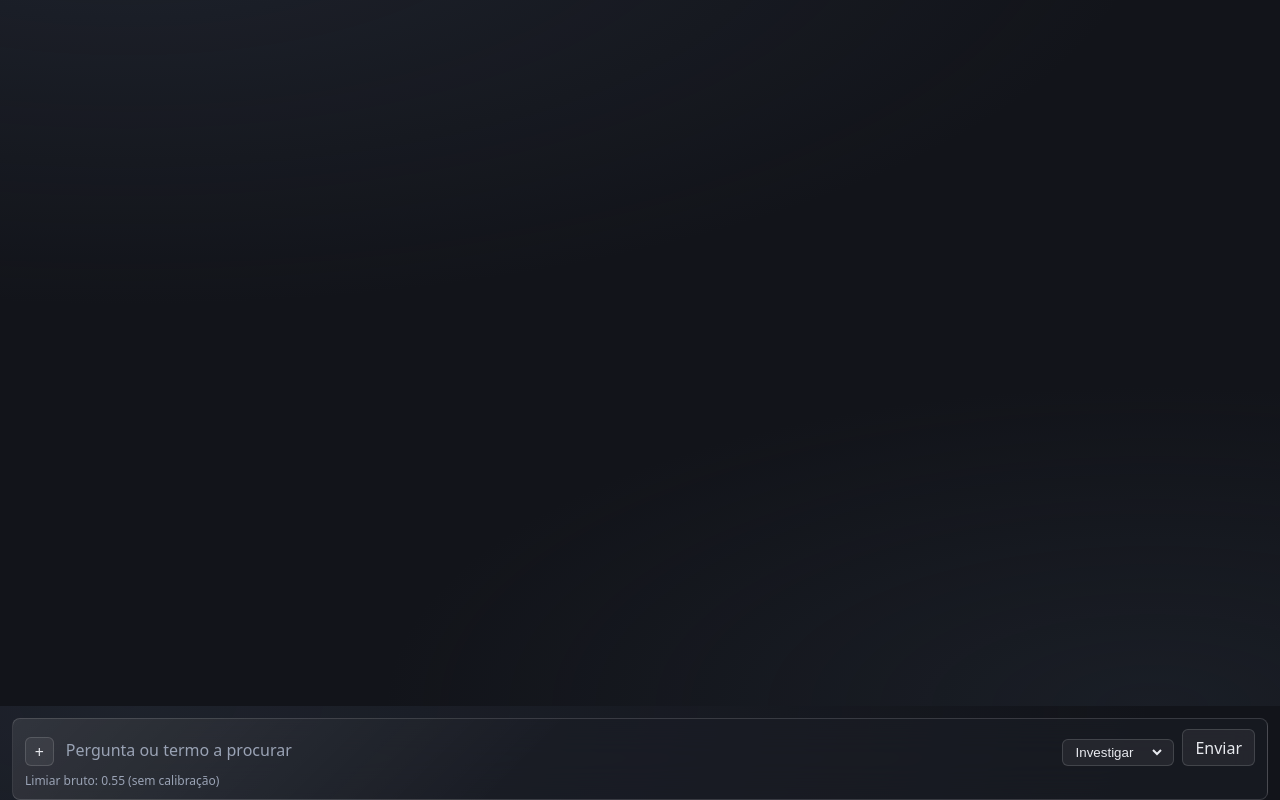
Test: REG-BAR-004 › setas e Enter escolhem Correlacionar; Escape volta a Procurar
The image size is (1280, 800).
(page scrolled)
Click the button named "Escolhe um modo" at point(39, 752), box [25,737,54,766]
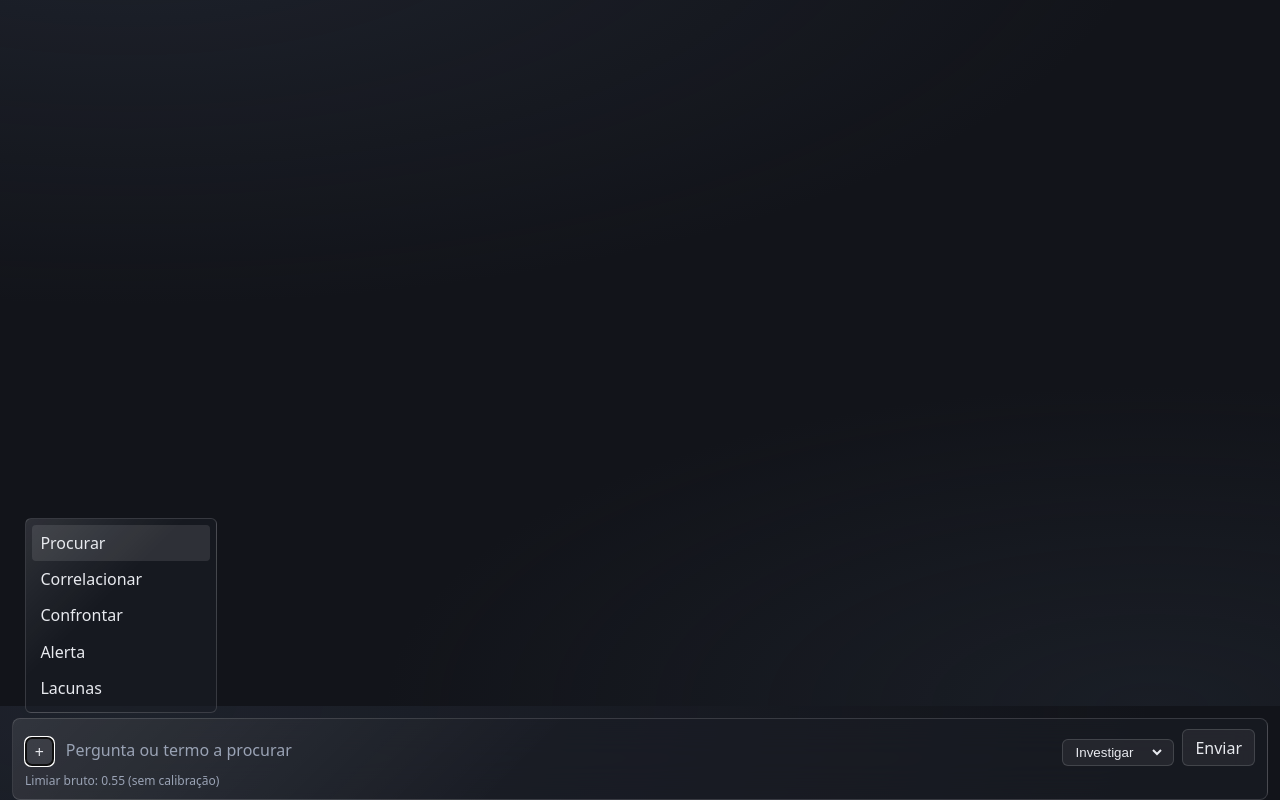
Now the menu is shown, box [25,518,217,713]
Press Arrowdown
Press Enter
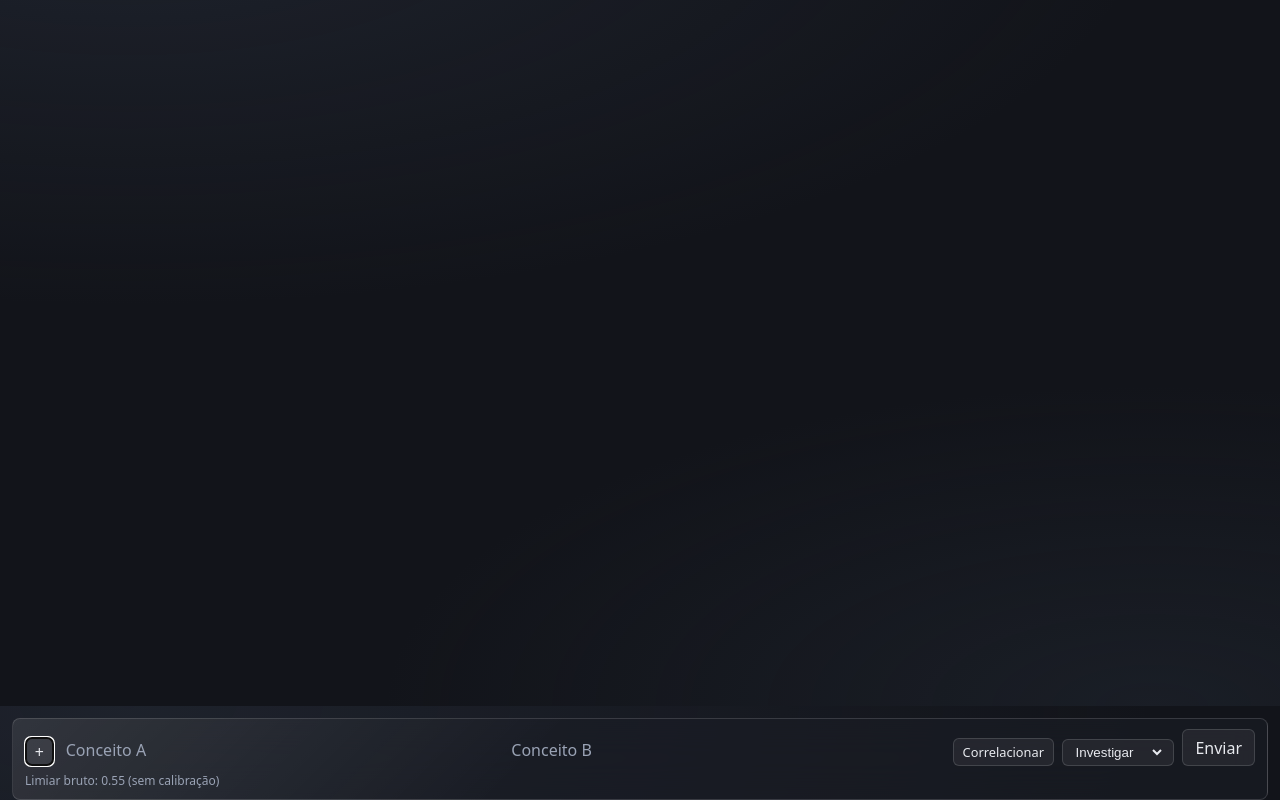
Now the field labelled "Conceito A" is shown, box [62,733,301,766]
Now the field labelled "Conceito B" is shown, box [507,733,746,766]
Press Escape
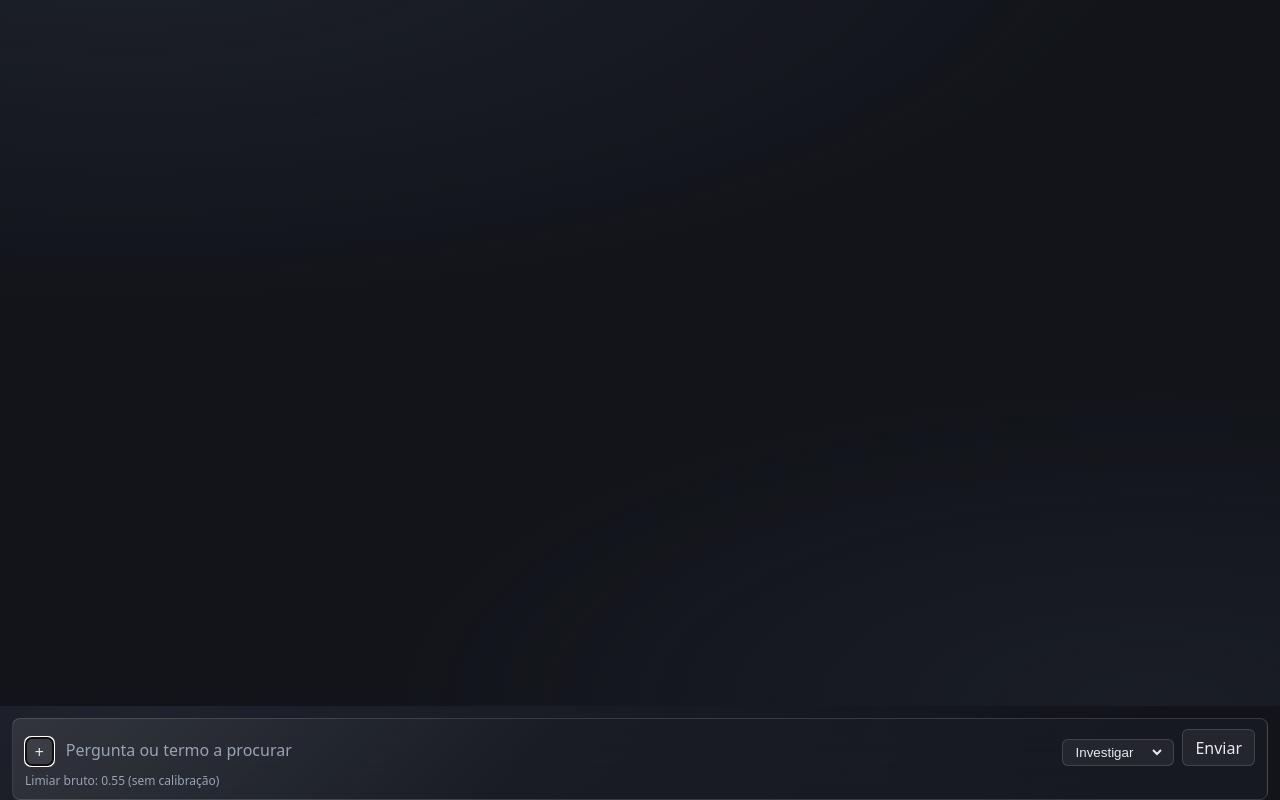
Expected: the field labelled "Conceito A" is not shown
Now the field labelled "Pergunta ou termo a procurar" is shown, box [62,733,301,766]
